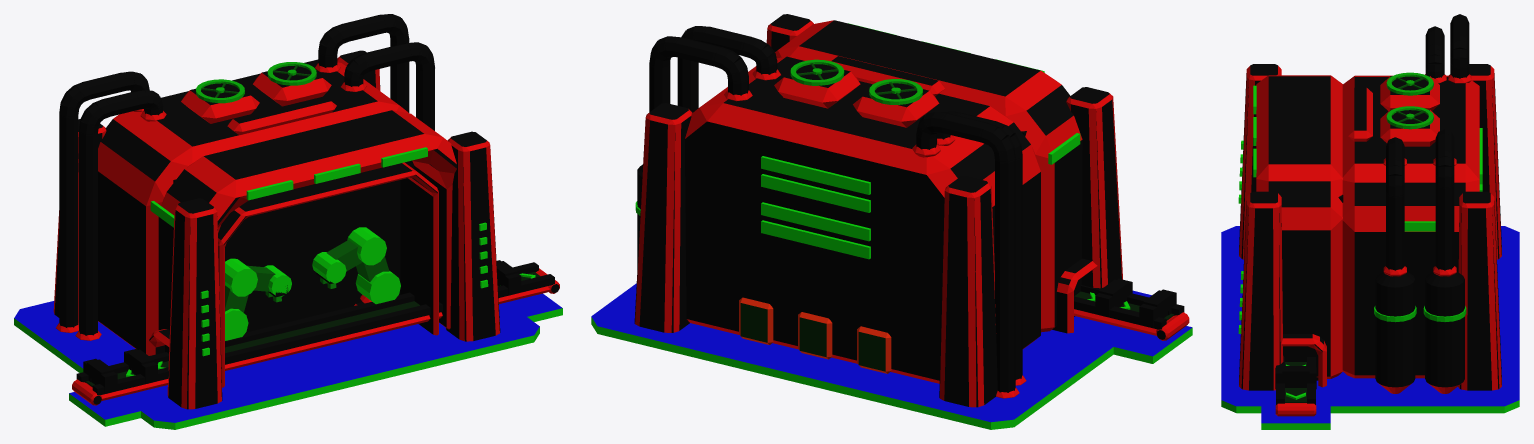
Rendered from SM_Holo_Assembler_T3_Mini.fbx.
3 views of the same model, side by side, from view 1: azimuth 30°, elevation 25°; view 2: azimuth 150°, elevation 25°; view 3: azimuth 270°, elevation 25° (orthographic). The views are drawn at different scales.
Visible parts, largest first — view 1: SM_Holo_Assembler_T3_Mini; view 2: SM_Holo_Assembler_T3_Mini; view 3: SM_Holo_Assembler_T3_Mini.
Boxes of the visible parts, <box> form: SM_Holo_Assembler_T3_Mini: <box>14,14,562,429</box>; SM_Holo_Assembler_T3_Mini: <box>591,14,1192,429</box>; SM_Holo_Assembler_T3_Mini: <box>1221,14,1519,429</box>.
Size of the model in its own units: 20.91 by 10.71 by 12.
